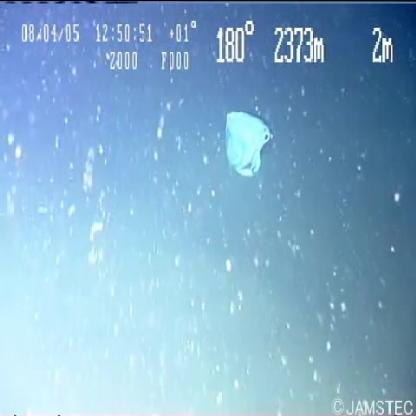Rác: (211, 94, 293, 195)
